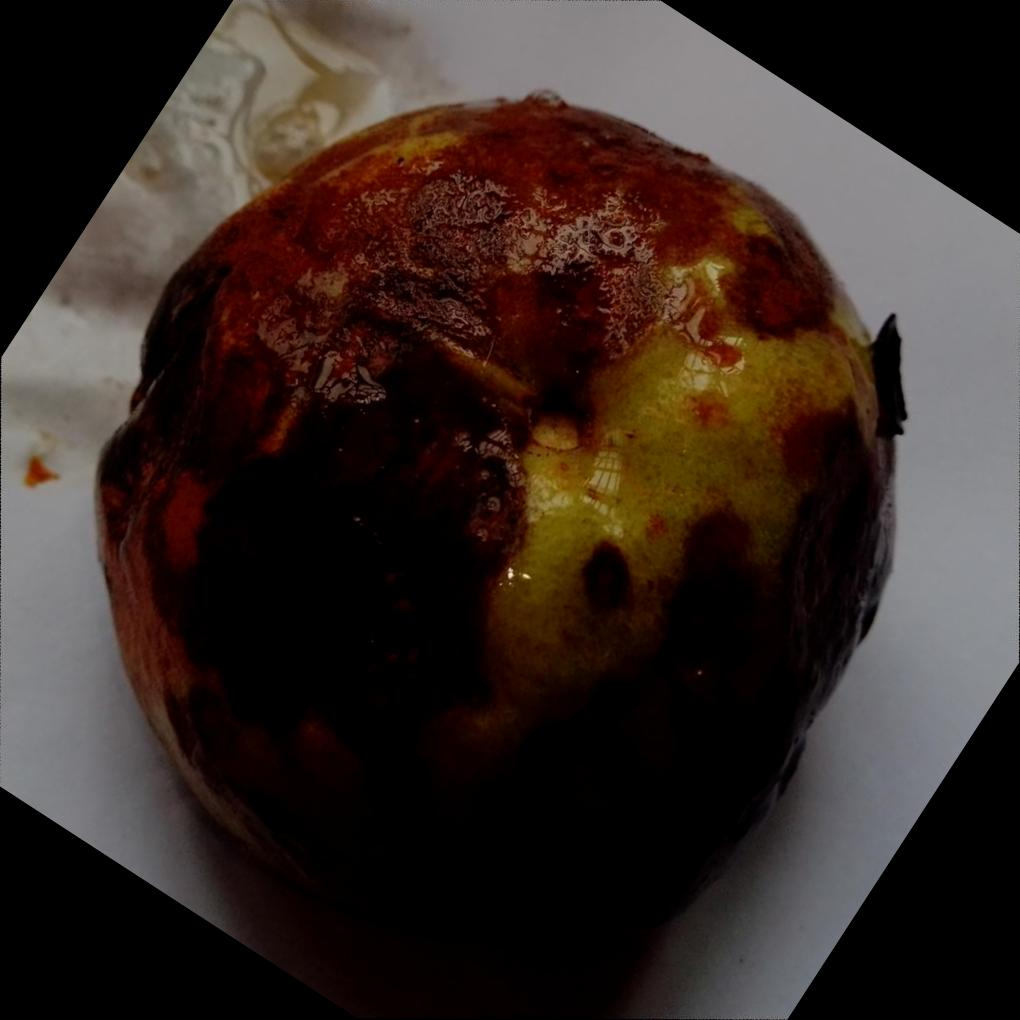FreshOrange: (94, 93, 904, 952)
